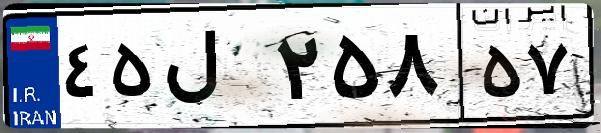2: (270, 28, 330, 110)
4: (57, 26, 110, 100)
5: (330, 28, 385, 110), (475, 38, 525, 113), (110, 28, 158, 98)
7: (525, 38, 570, 115)
8: (385, 28, 445, 110)
ل: (158, 20, 270, 120)
